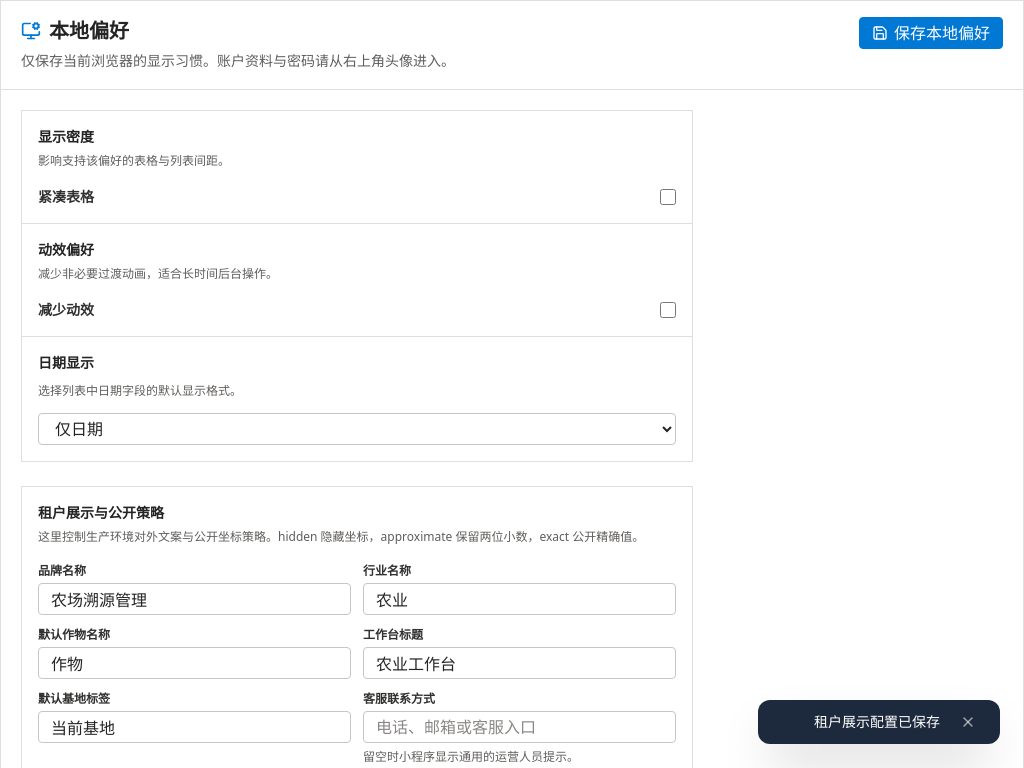
Settings production wording › preserves typed branding inputs when save fails
Replace the text in the field labelled "工作台标题" with " 云岭工作台 ": (520, 663) left=363, top=647, right=676, bottom=679
(page scrolled)
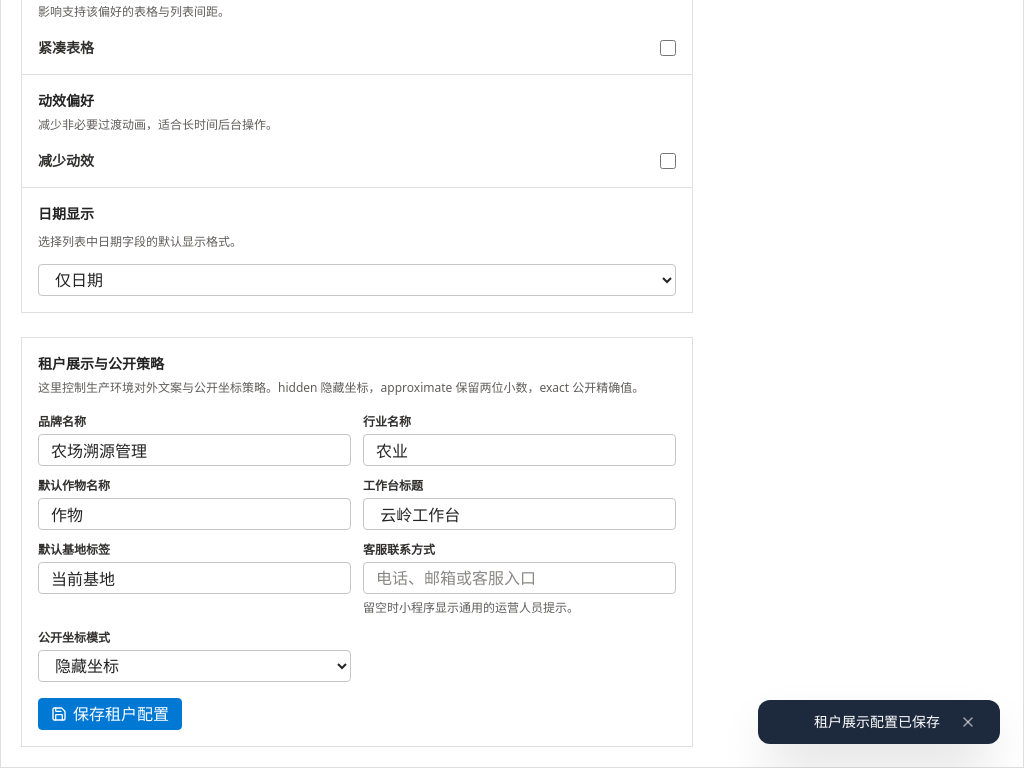
Click the button "保存租户配置": click(110, 714) left=38, top=698, right=182, bottom=730
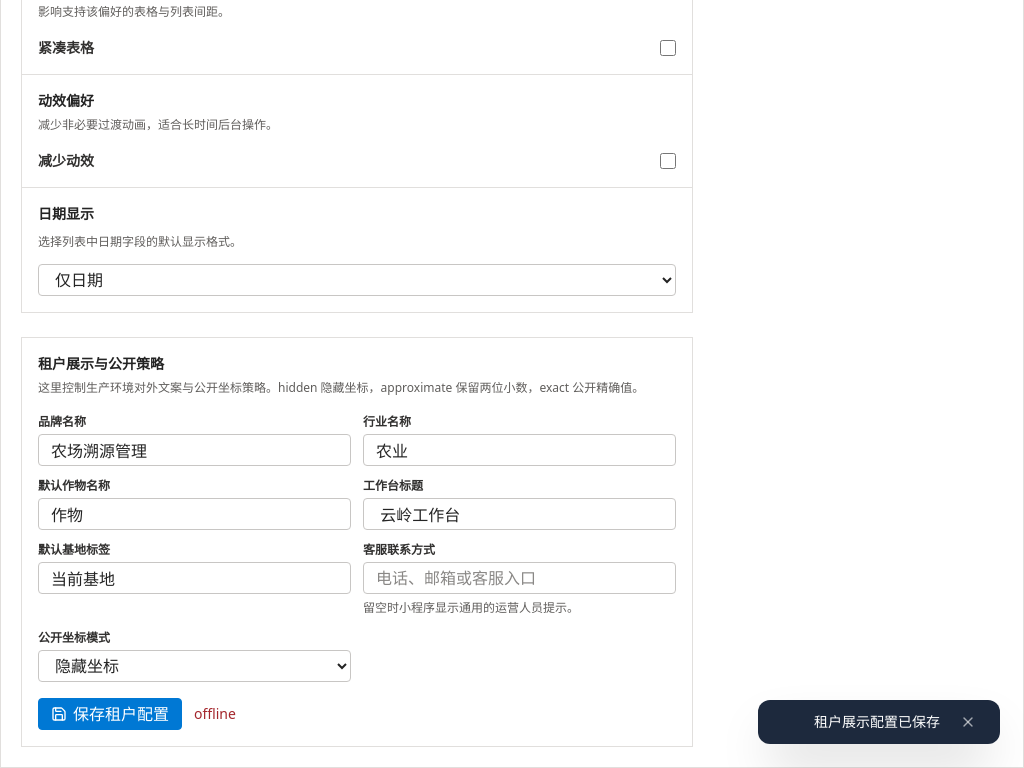
Result: the text "offline" is shown at left=194, top=704, right=236, bottom=724
